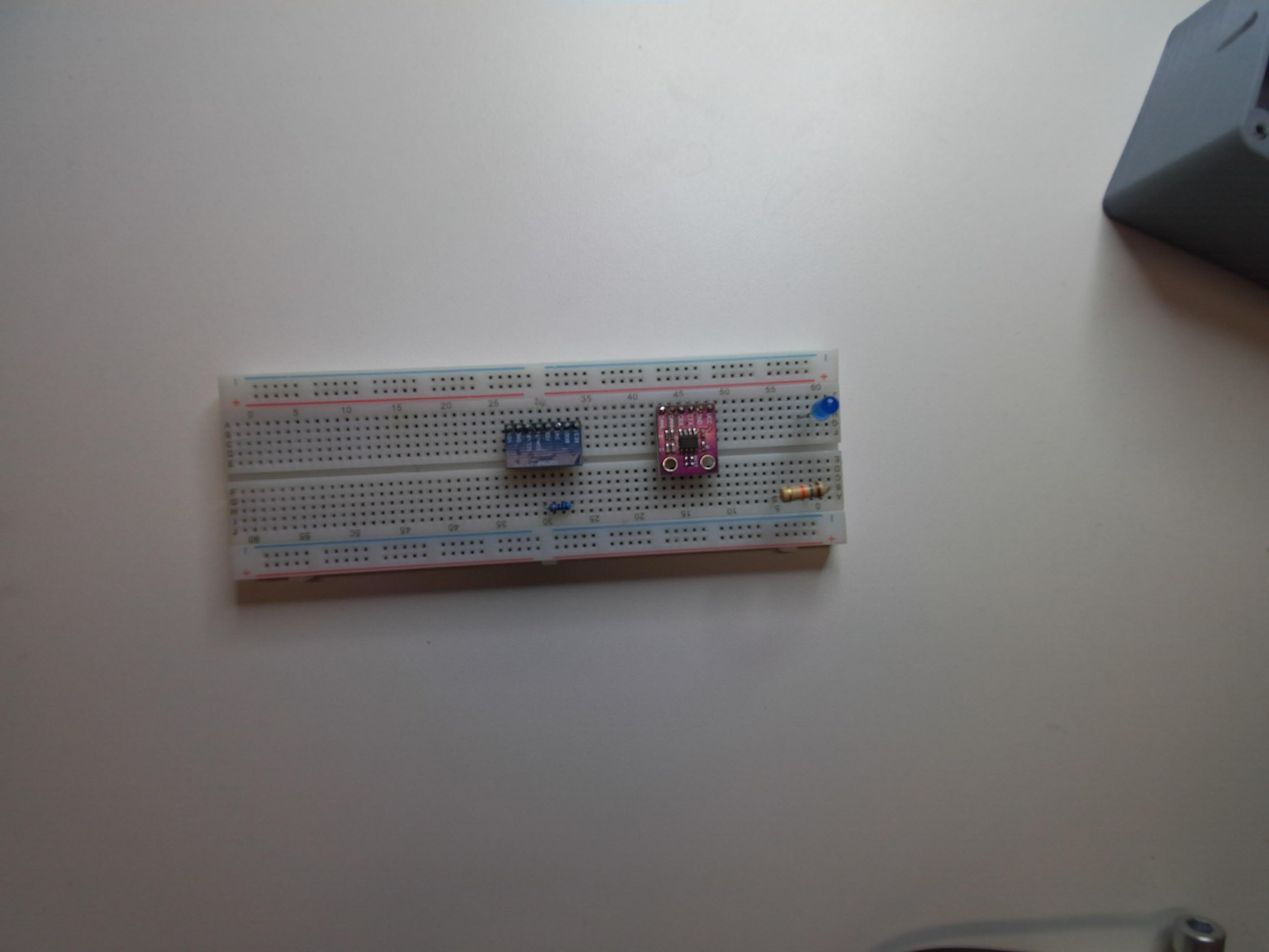base: (215, 348, 847, 602)
blue-board: (499, 417, 588, 471)
blue-led: (807, 392, 840, 422)
purple-board: (654, 403, 720, 492)
resistor-big: (780, 480, 826, 503)
resistor-small: (542, 498, 572, 512)
